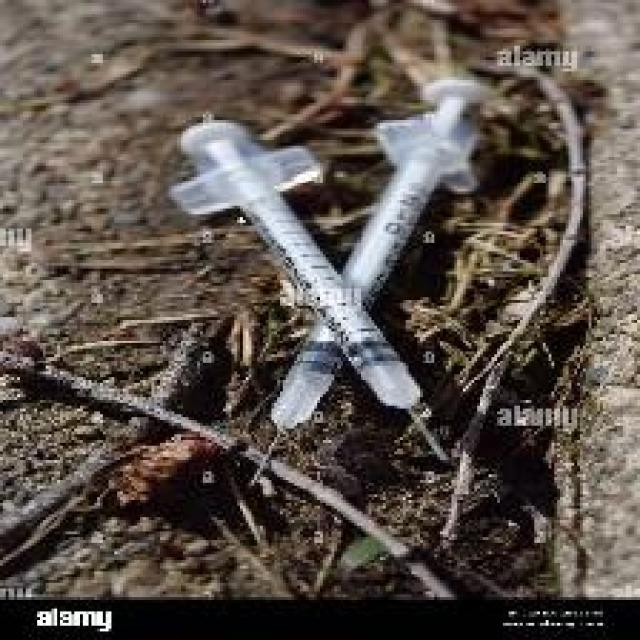syringe: (163, 93, 479, 445)
